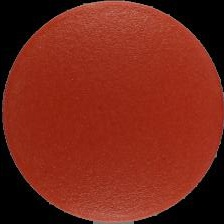52125-694: (0, 0, 224, 224)
